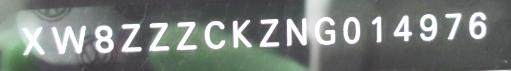letter: (46, 21, 90, 56), (229, 16, 256, 53), (17, 24, 46, 57), (282, 16, 309, 51), (313, 13, 338, 50), (256, 16, 281, 51), (202, 18, 228, 51), (145, 20, 171, 53), (173, 20, 199, 53), (389, 11, 416, 42), (340, 13, 365, 46), (118, 21, 143, 54), (92, 23, 117, 54), (467, 9, 489, 40), (417, 11, 439, 42), (444, 10, 465, 39), (367, 14, 383, 45)
